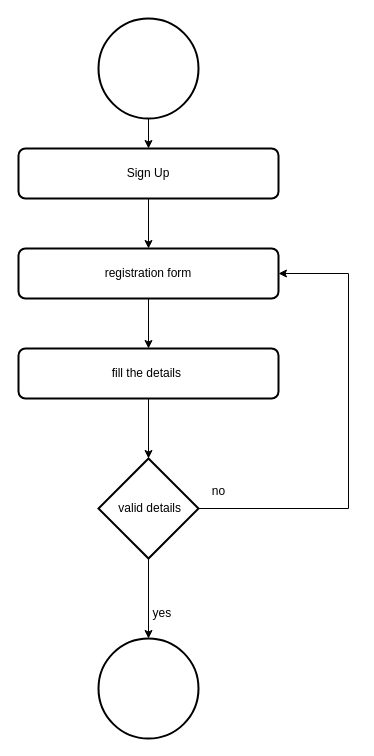
The diagram is 374 pixels wide and 756 high, and some of its shapes have lost their labels. The shapes that lost their labels are listed below. From the top down, each one's box as (x1, y1, x2, y2) in pixels, then its label:
(97, 17, 199, 119): opens application
(97, 637, 199, 739): End
